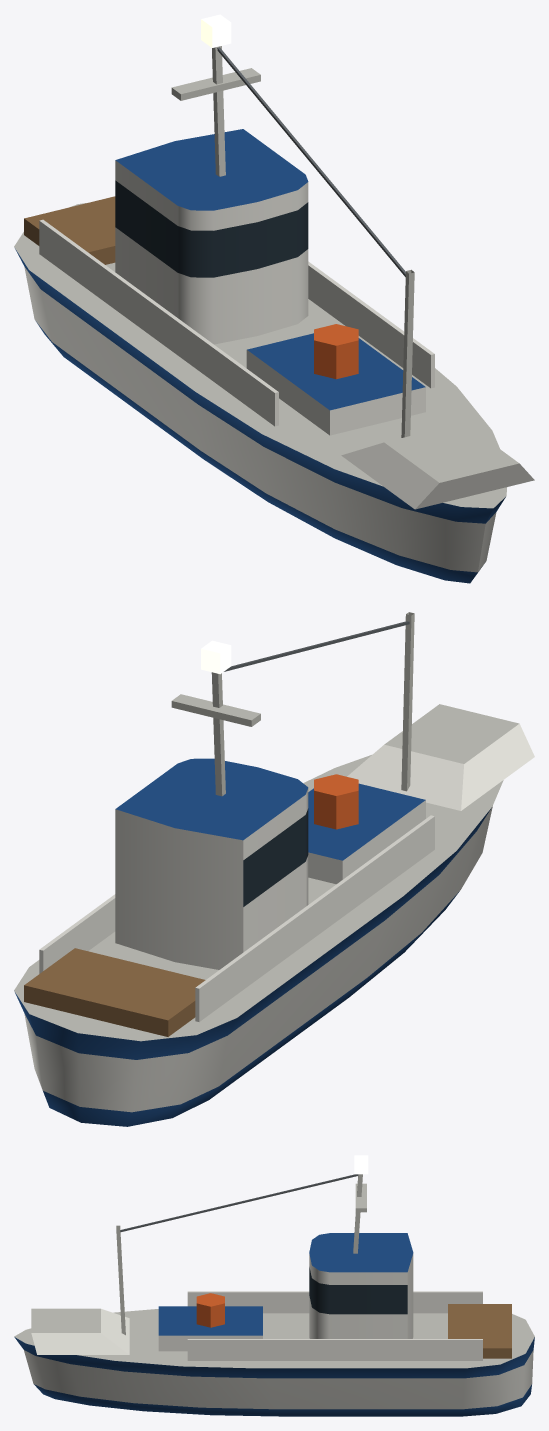
File: tokyo_fishing_boat.glb
3 views of the same model, one above another, from view 1: azimuth 30°, elevation 25°; view 2: azimuth 150°, elevation 25°; view 3: azimuth 270°, elevation 25° (orthographic). The views are drawn at different scales.
Visible parts, largest first — view 1: tokyo_fishing_boat; view 2: tokyo_fishing_boat; view 3: tokyo_fishing_boat.
Boxes of the visible parts, left/top/right/bottom form: tokyo_fishing_boat: left=14, top=14, right=534, bottom=583; tokyo_fishing_boat: left=14, top=612, right=534, bottom=1126; tokyo_fishing_boat: left=14, top=1155, right=534, bottom=1416.
Bounding box in the file's own units: 2.6 × 4.5 × 9.
Materials: 1 (1 with a texture image).
